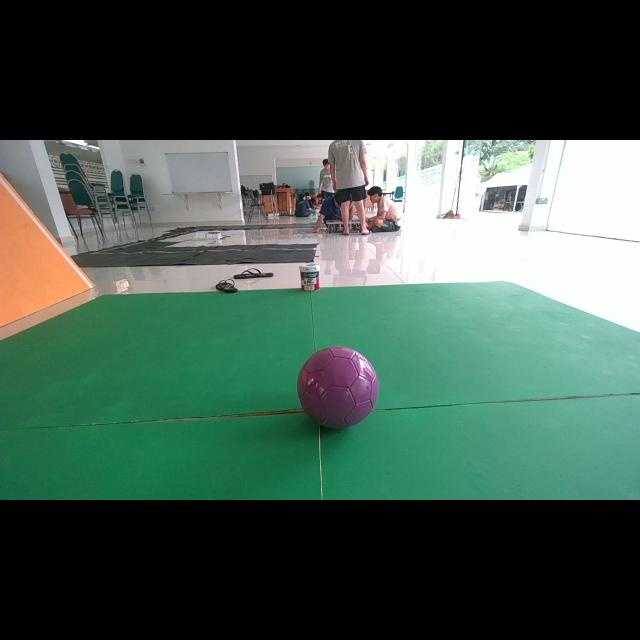P: (298, 346, 379, 428)
